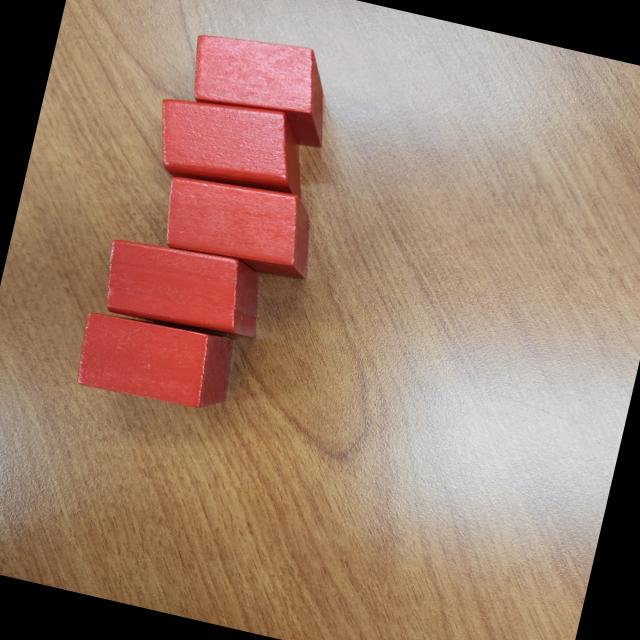red: (142, 84, 324, 207), (178, 21, 344, 150), (95, 230, 278, 346), (68, 303, 243, 422), (152, 165, 326, 284)
